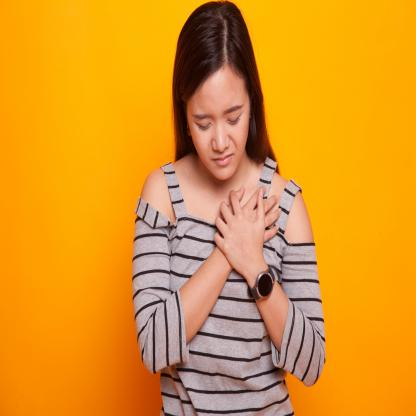pain: (191, 100, 246, 132)
